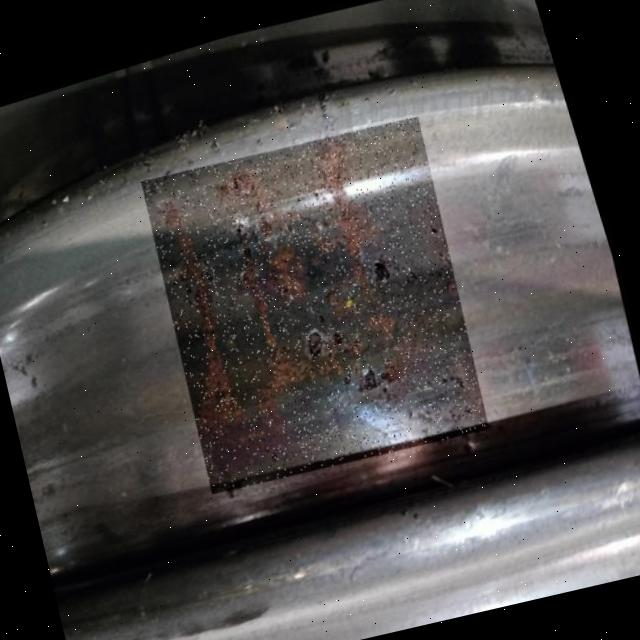Blue hole: (277, 309, 350, 385), (340, 346, 399, 412), (360, 246, 410, 302)
